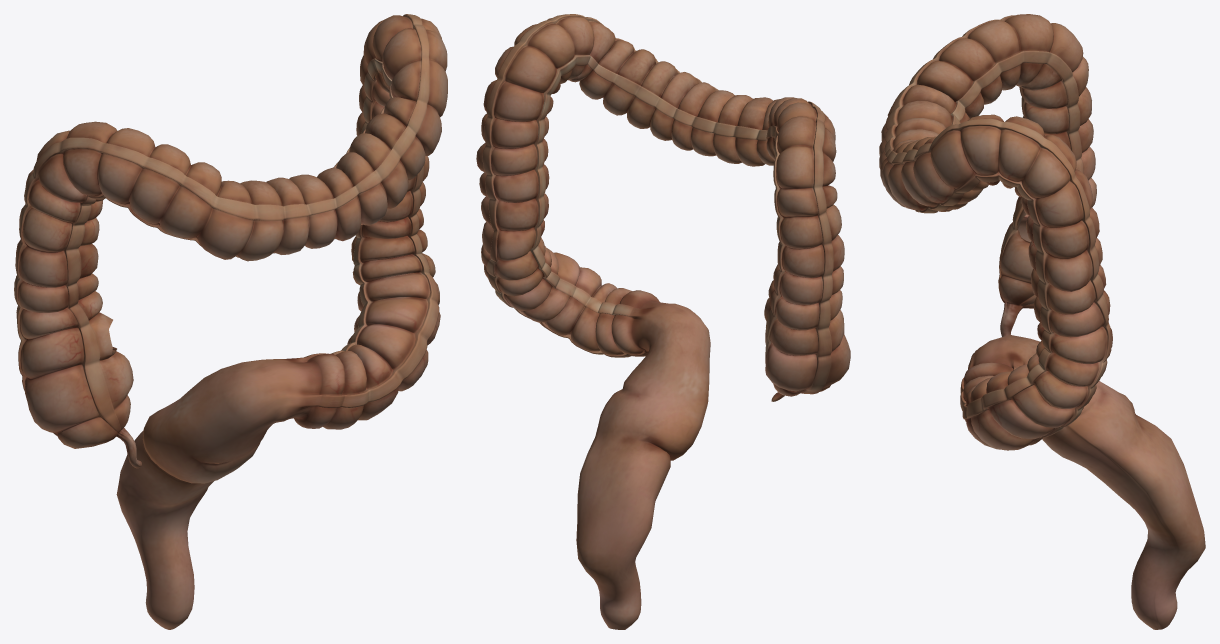
File: LargeIntestines.gltf
3 views of the same model, side by side, from view 1: azimuth 30°, elevation 25°; view 2: azimuth 150°, elevation 25°; view 3: azimuth 270°, elevation 25° (orthographic). The views are drawn at different scales.
Parts seen in each view (by area): view 1: Object_2; view 2: Object_2; view 3: Object_2.
Part boxes in pixels (<box>): Object_2: <box>14,14,447,629</box>; Object_2: <box>476,14,850,629</box>; Object_2: <box>879,14,1205,629</box>.
Size of the model in its own units: 22.64 by 32.22 by 16.45.
1 material, 1 textured.
